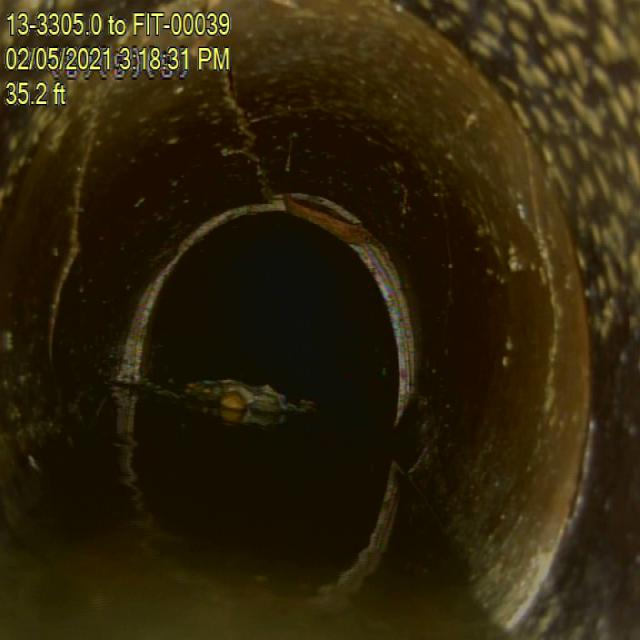Crack: (494, 126, 582, 496), (39, 124, 104, 353)
